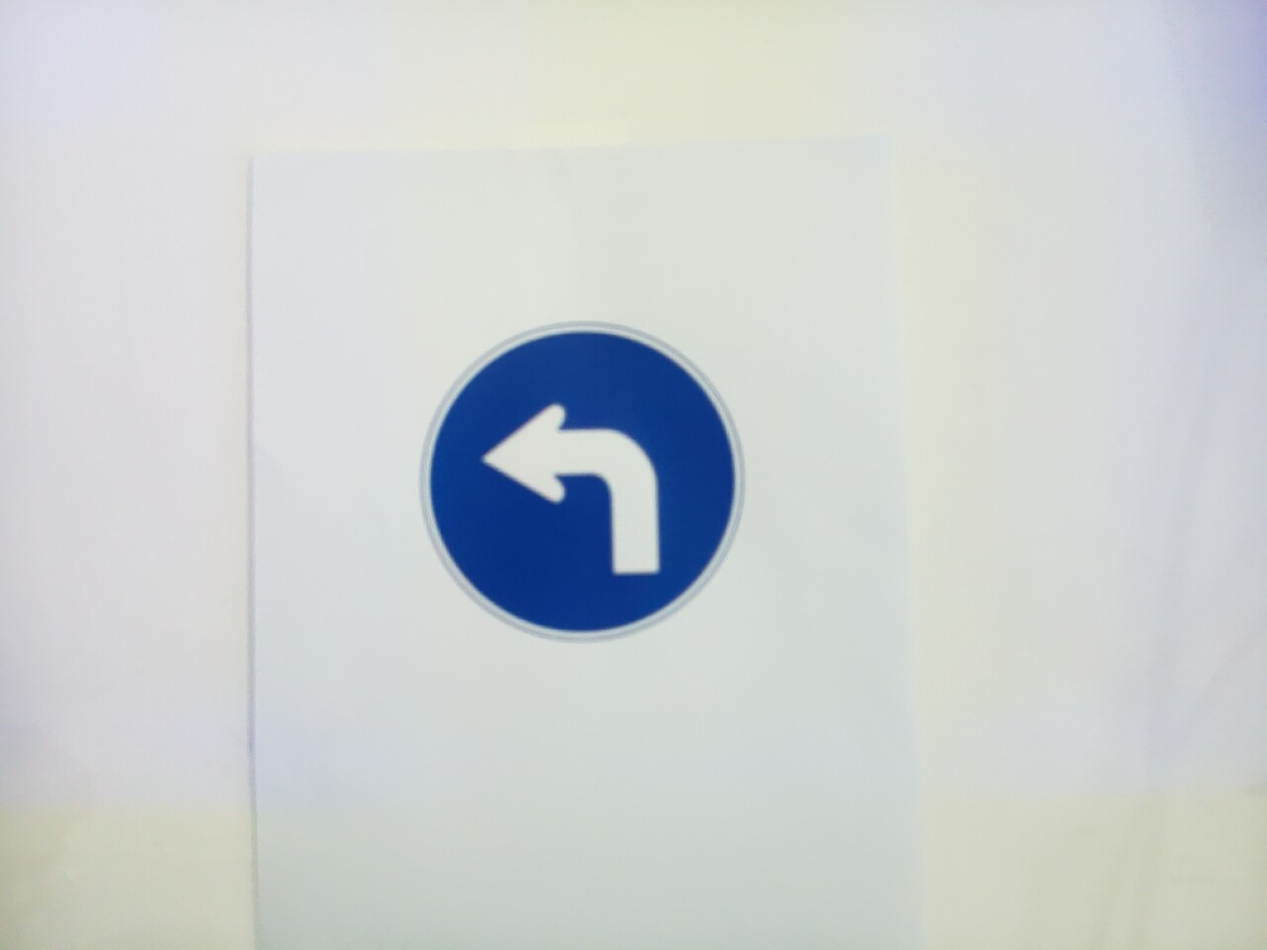left_turn: (420, 322, 745, 642)
